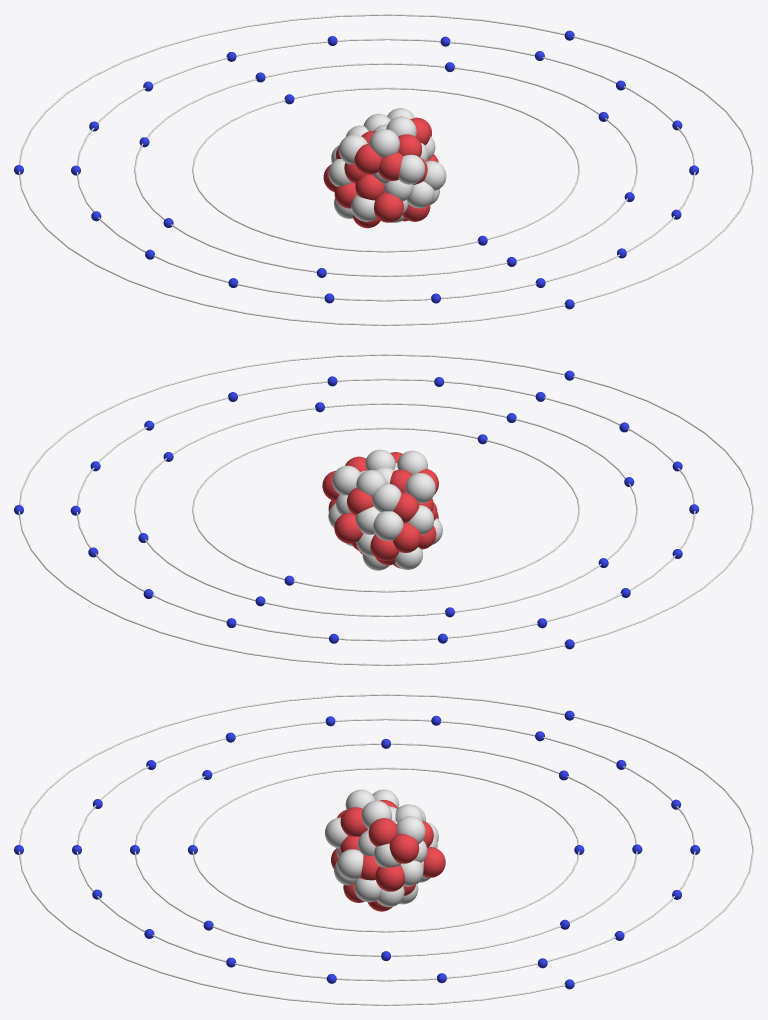
Rendered from Gallium.glb.
3 views of the same model, one above another, from view 1: azimuth 30°, elevation 25°; view 2: azimuth 150°, elevation 25°; view 3: azimuth 270°, elevation 25° (orthographic).
Visible parts, largest first — view 1: N-Schale, M-Schale, L-Schale, K-Schale, Proton 24, Neutron 37, Neutron 38, Proton 28, Proton 10, Neutron 35, Neutron 27, Proton 27; view 2: N-Schale, M-Schale, L-Schale, K-Schale, Neutron 8, Neutron 35, Neutron 16, Proton 18, Neutron 36, Proton 4, Neutron 37, Neutron 30; view 3: N-Schale, M-Schale, L-Schale, K-Schale, Proton 29, Neutron 39, Proton 31, Proton 26, Proton 30, Neutron 31, Proton 18, Neutron 36.
Boxes of the visible parts, x1,y1,x2,y2 form: N-Schale: (18,14,753,325); M-Schale: (76,38,695,301); L-Schale: (134,63,637,276); K-Schale: (192,87,579,252); Proton 24: (374,192,403,222); Neutron 37: (369,129,399,157); Neutron 38: (398,154,424,184); Proton 28: (354,143,381,174); Proton 10: (355,174,384,200); Neutron 35: (338,134,367,164); Neutron 27: (407,181,434,208); Proton 27: (378,152,402,180); N-Schale: (18,354,753,665); M-Schale: (76,378,695,641); L-Schale: (134,403,637,616); K-Schale: (192,427,579,592); Neutron 8: (373,511,403,540); Neutron 35: (405,473,435,503); Neutron 16: (372,483,401,512); Proton 18: (334,513,363,543); Neutron 36: (332,465,360,495); Proton 4: (393,522,420,552); Neutron 37: (397,450,427,474); Neutron 30: (356,470,386,496); N-Schale: (18,694,753,1005); M-Schale: (76,718,695,981); L-Schale: (134,743,637,956); K-Schale: (192,767,579,932); Proton 29: (389,833,419,863); Neutron 39: (337,849,363,879); Proton 31: (375,865,405,891); Proton 26: (368,818,397,846); Proton 30: (340,807,367,836); Neutron 31: (361,800,391,828); Proton 18: (422,847,445,877); Neutron 36: (396,816,425,843).
Size of the model in its own units: 19.04 by 3.03 by 19.15.
